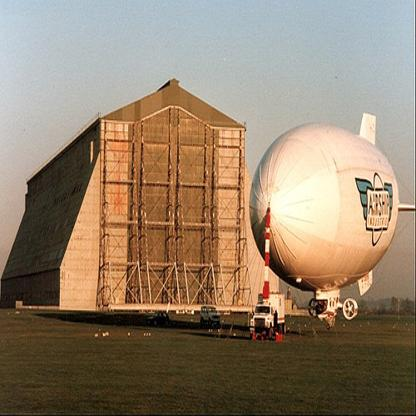Airship: (249, 112, 405, 325)
